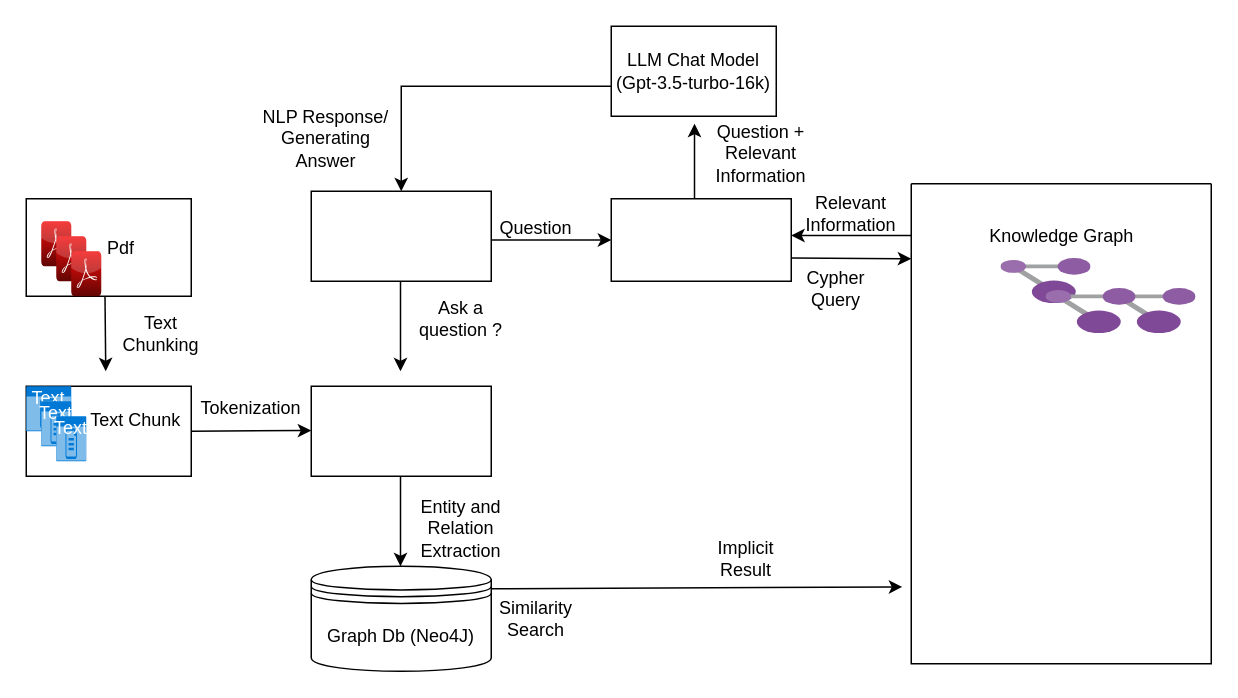
The diagram is 1238 pixels wide and 698 high, and some of its shapes have lost their labels. The shapes that lost their labels are listed below. From the top down, each one's centre as x and y in pixels, then its label:
(400,235): Supported Agent Application
(700,239): Cypher Query Generating Prompt
(400,430): LLM Model (Gpt-3.5-turbo-16k)
